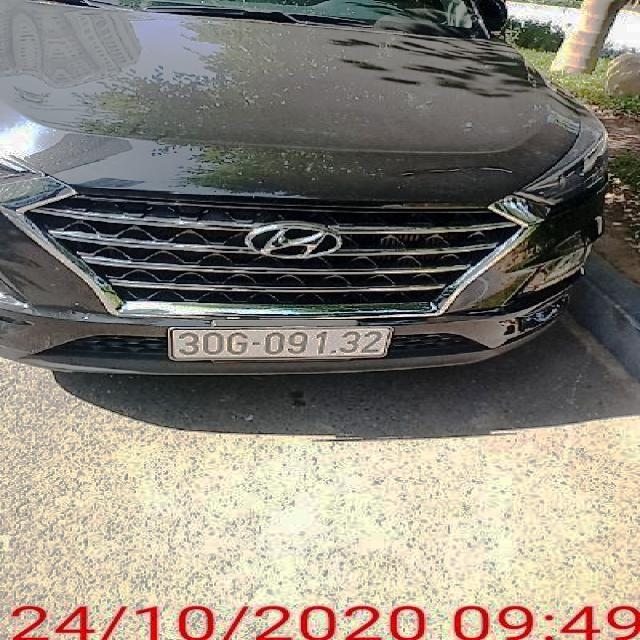license_plate: (171, 329, 391, 361)
